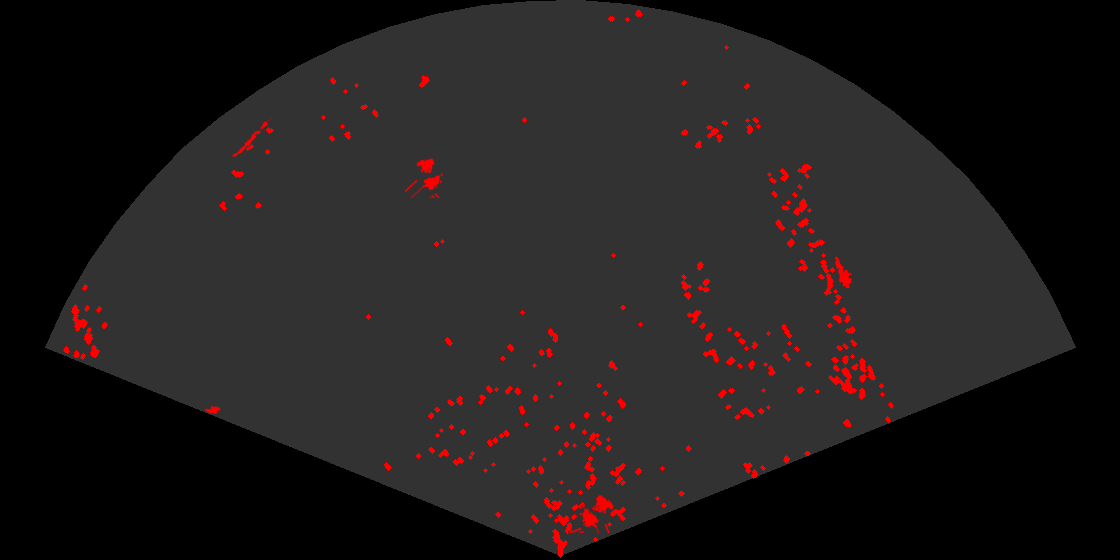AUV: (203, 404, 222, 414)
cage: (568, 493, 616, 533), (405, 157, 445, 198)
chain: (231, 117, 274, 159)
frogman: (833, 256, 853, 288)
